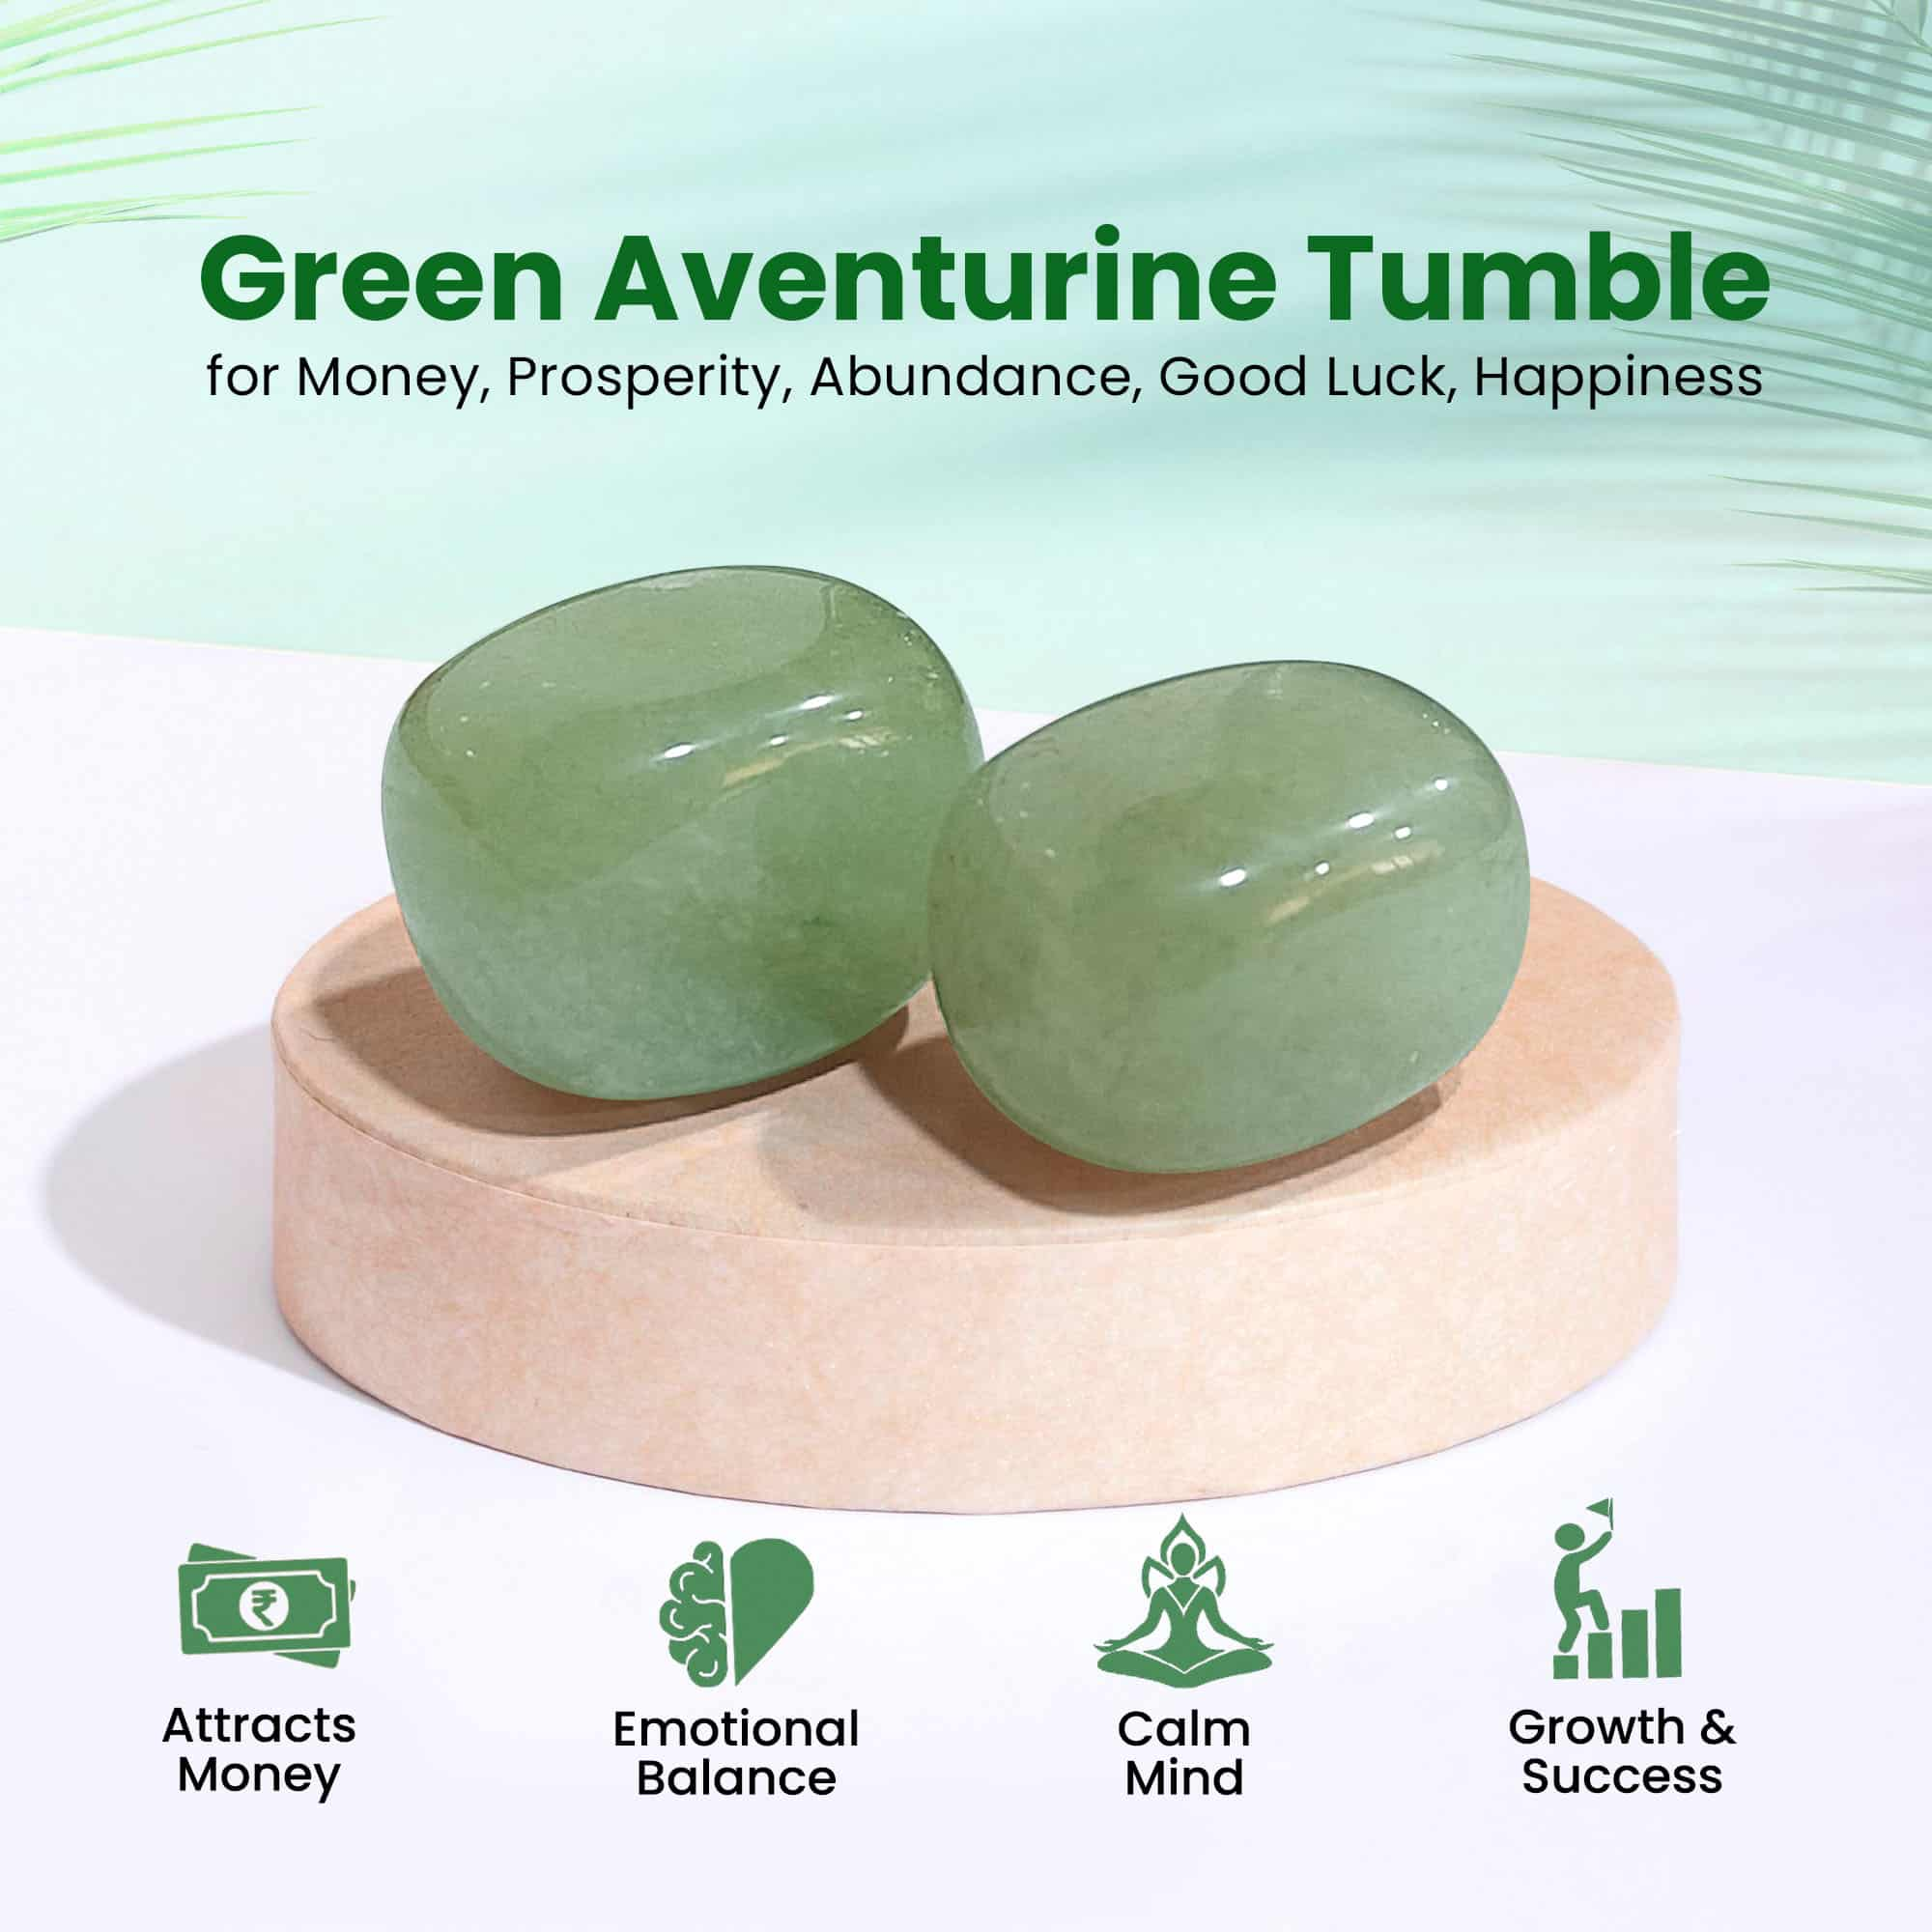Aventurine: (375, 554, 987, 1115), (931, 651, 1536, 1178)
